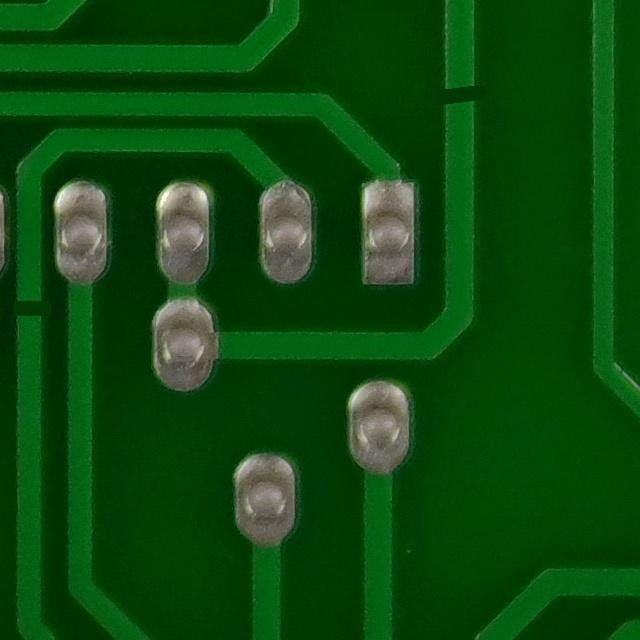open_circuit: (427, 70, 495, 123), (9, 285, 54, 339)
